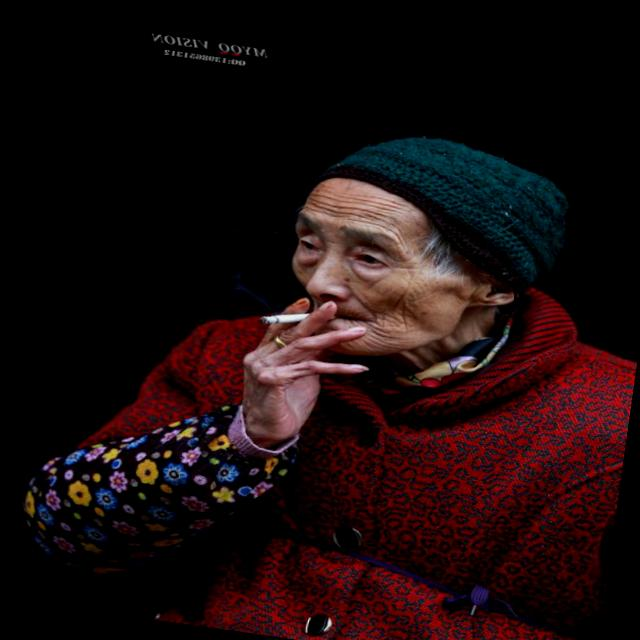cigarette: (229, 288, 330, 346)
